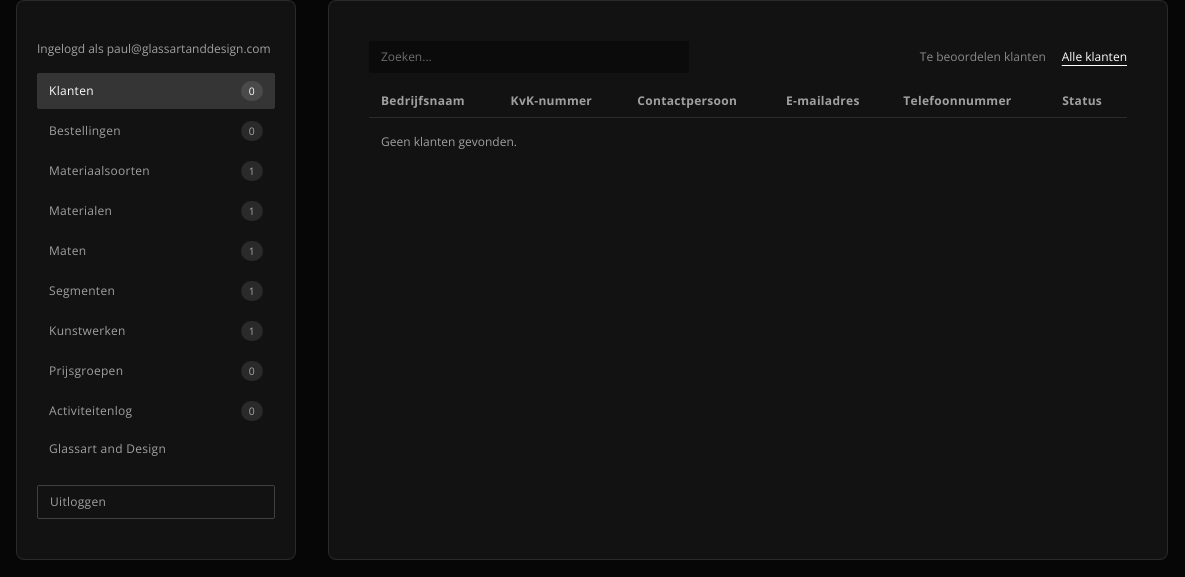
Scenario: BeheerShell › shows the kunstwerken count and switches to the Kunstwerken section with segment names resolved
Click the button with test id "beheer-nav-kunstwerken": (156, 331) [37,313,275,349]
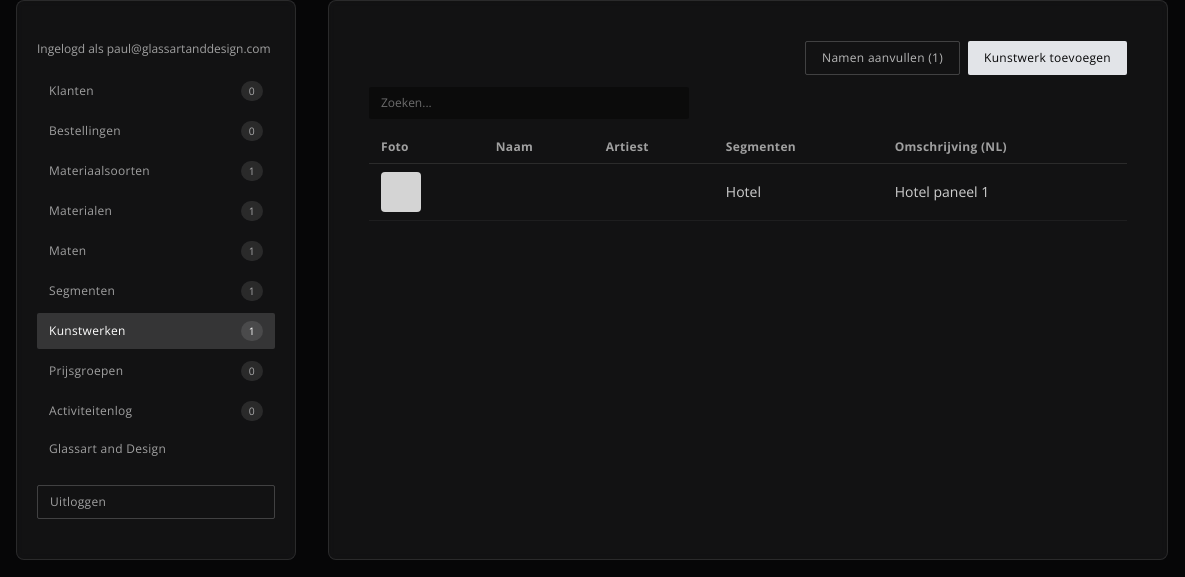
Now the element with test id "kunstwerken-section" is shown, box [369,41,1127,221]
Now the row with test id "data-table-row-kw-1" shows "Hotel", box [726,182,761,201]
